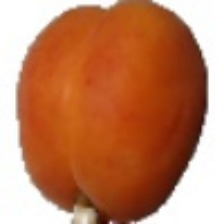apricot: (27, 0, 213, 196)
